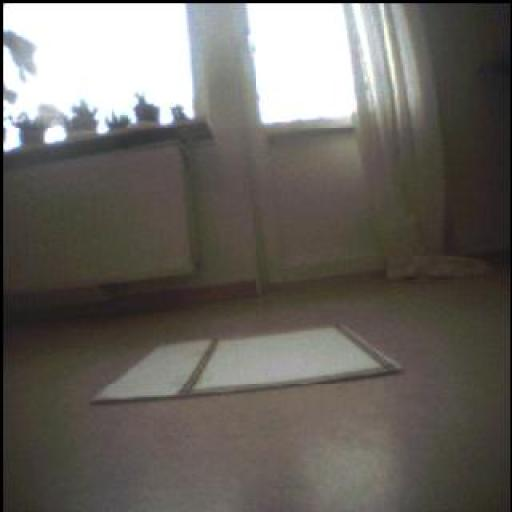Pad: (93, 333, 410, 402)
